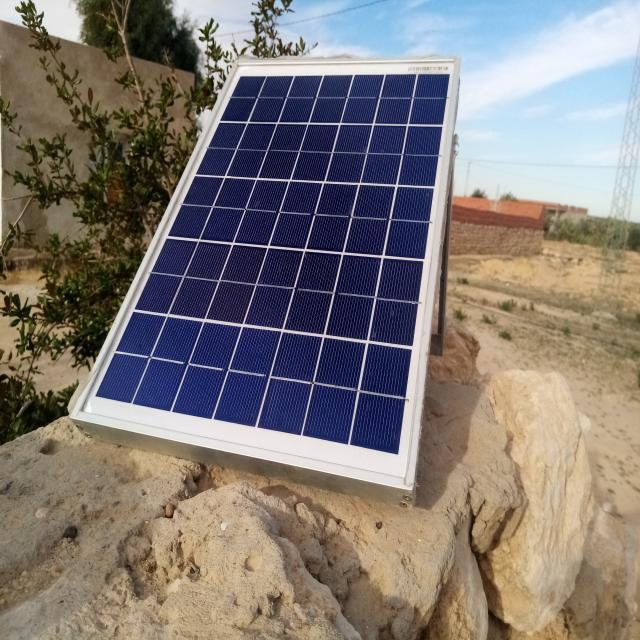no faulty: (75, 55, 455, 482)
